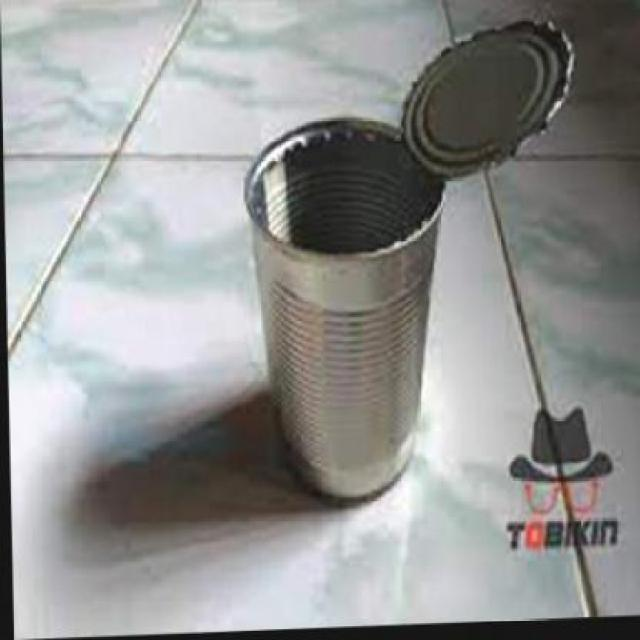Metal: (231, 9, 577, 512)
